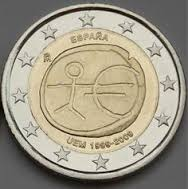eur002: (1, 3, 185, 181)
